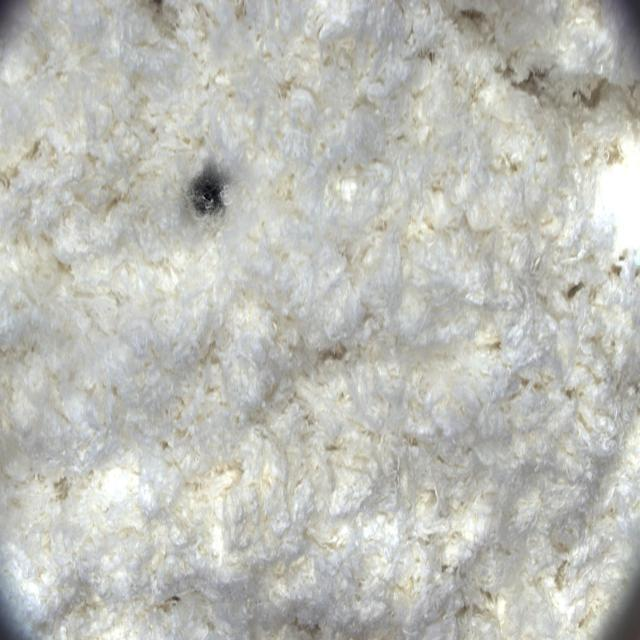dust: (173, 134, 250, 254)
